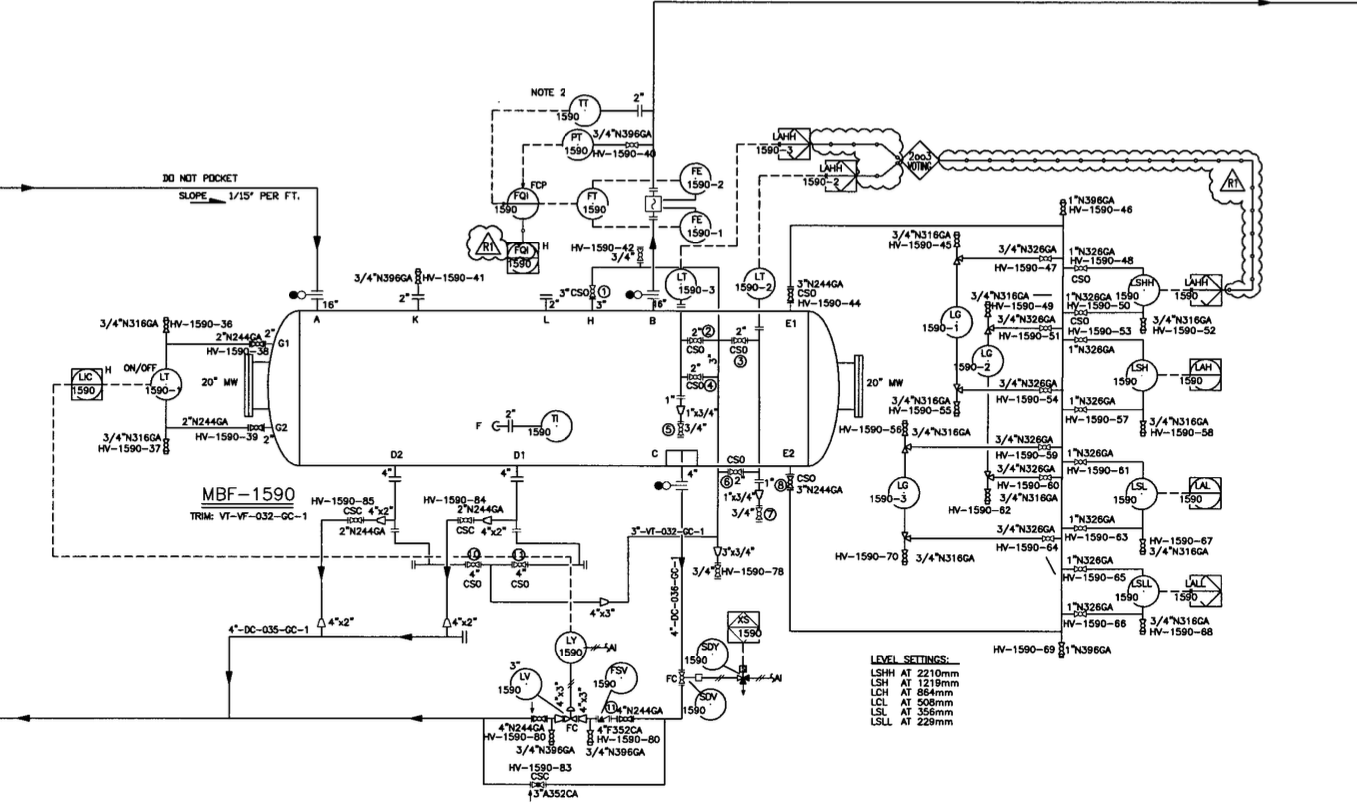Instrument-offset: (867, 470, 925, 515), (1108, 355, 1162, 396), (922, 302, 975, 343), (663, 265, 716, 305), (677, 685, 730, 725), (677, 158, 727, 199), (495, 663, 545, 703), (672, 209, 726, 245), (956, 343, 1008, 380), (1112, 272, 1164, 308), (1112, 573, 1164, 609), (525, 407, 575, 444), (1114, 476, 1162, 514), (682, 635, 730, 673), (734, 263, 780, 302), (493, 185, 540, 221), (593, 660, 641, 695), (556, 93, 603, 128), (551, 627, 590, 667), (571, 186, 612, 222), (143, 369, 187, 402), (554, 129, 597, 160)
Instrument-square-offset: (1171, 267, 1227, 310), (1172, 570, 1227, 612), (1174, 473, 1226, 515), (1177, 352, 1224, 398), (500, 237, 545, 278), (65, 363, 107, 406), (722, 606, 765, 648)
